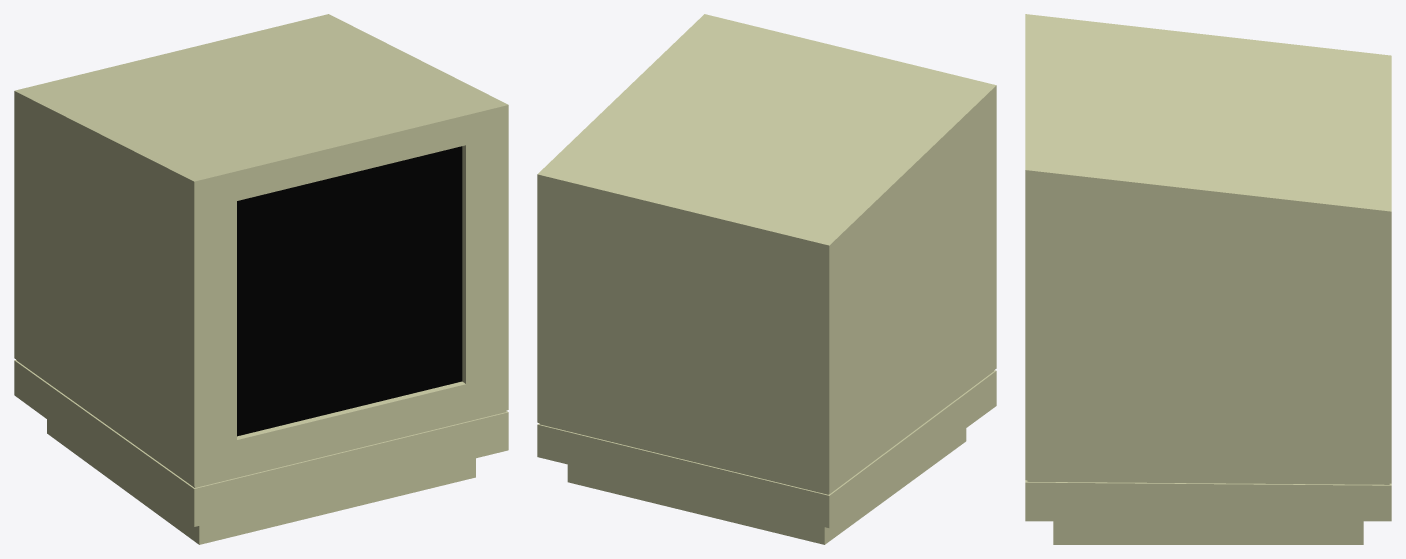
The model's file is monitor.glb.
3 views of the same model, side by side, from view 1: azimuth 30°, elevation 25°; view 2: azimuth 150°, elevation 25°; view 3: azimuth 270°, elevation 25° (orthographic). The views are drawn at different scales.
Parts seen in each view (by area): view 1: Cube.001; view 2: Cube.001; view 3: Cube.001.
Boxes of the visible parts, box(x1,y1,x2,y2) form: Cube.001: box(14, 14, 508, 544); Cube.001: box(537, 14, 996, 544); Cube.001: box(1025, 14, 1391, 544).
Size of the model in its own units: 2.76 by 3.16 by 2.73.
